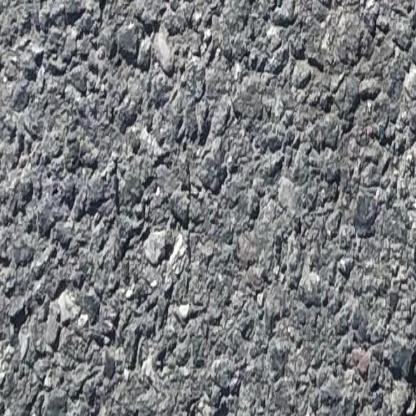Cracks: (397, 314, 416, 416)
